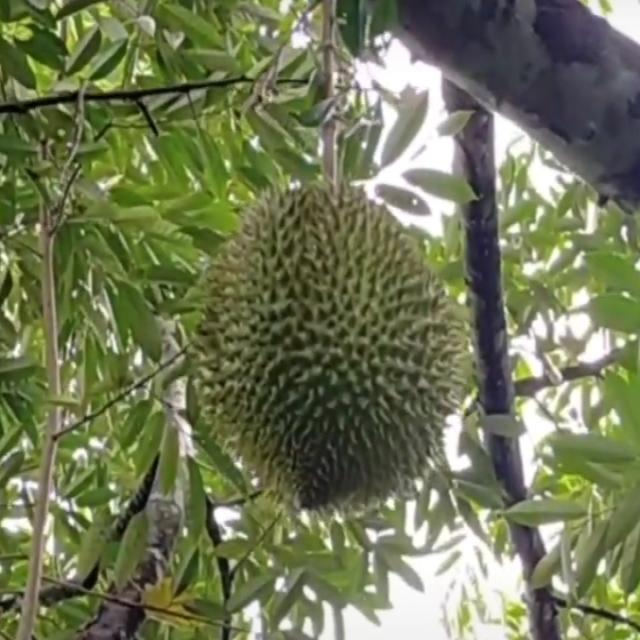immature: (192, 183, 460, 532)
